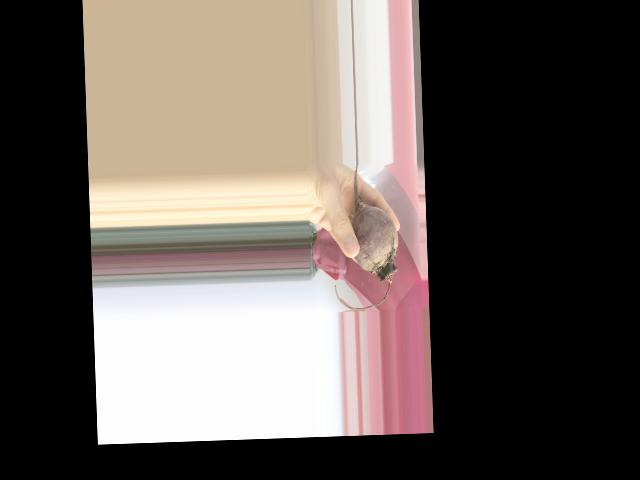beet: (330, 162, 400, 311)
